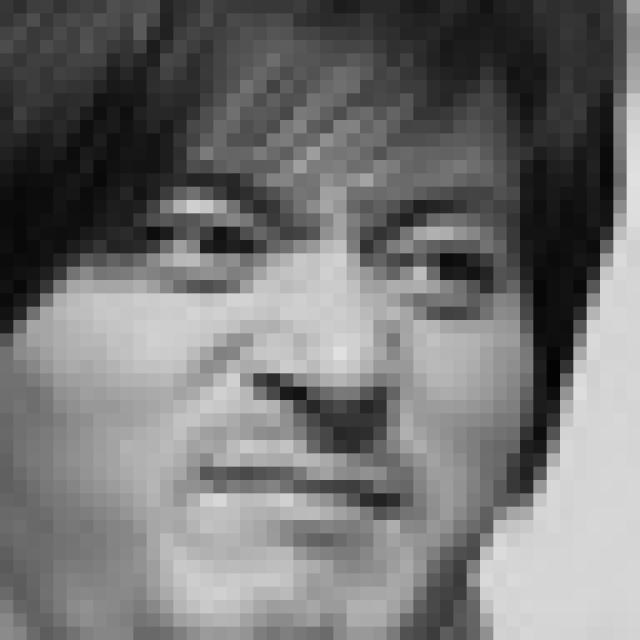disgust: (112, 157, 516, 589)
